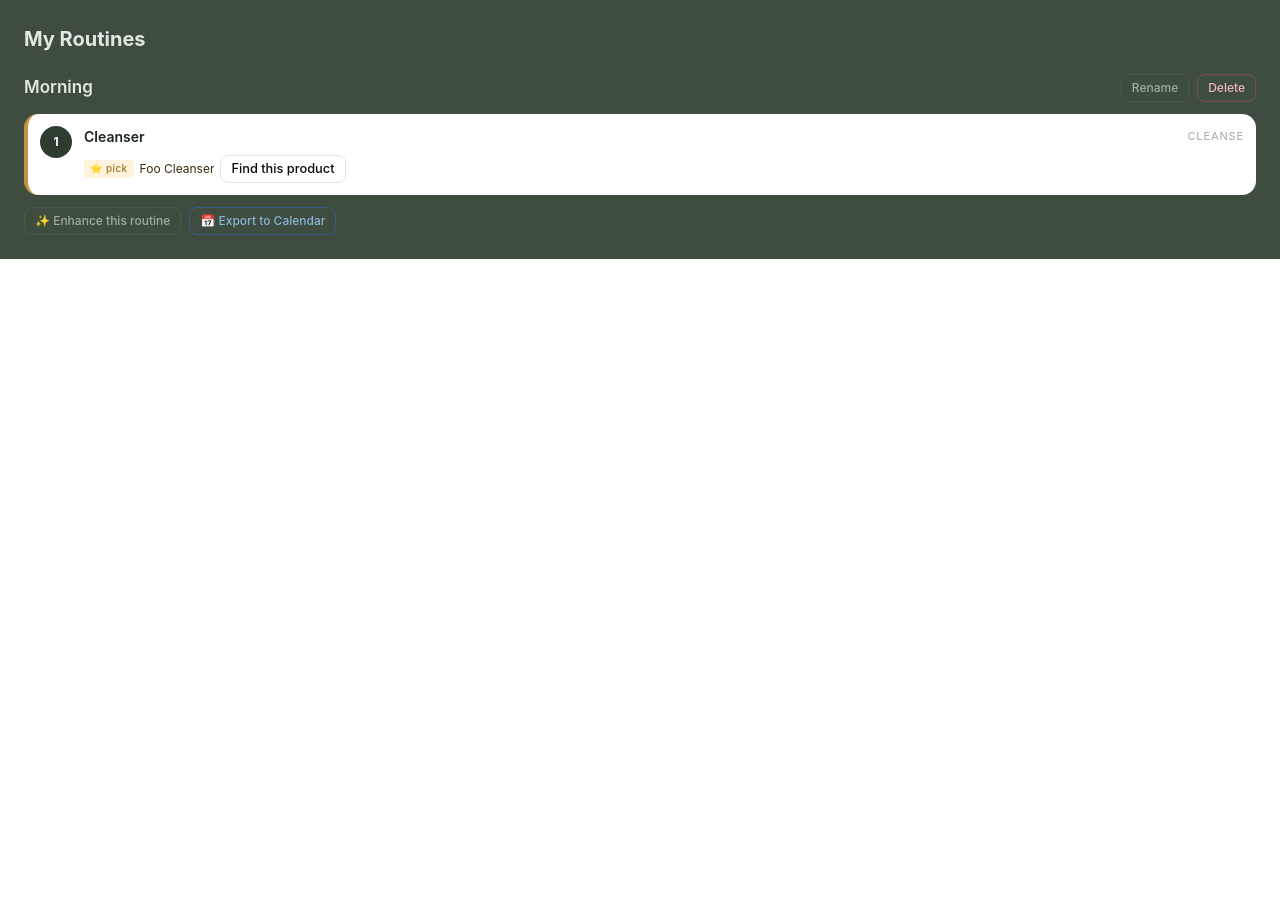
RoutinesPage rename collision handling (security-remediation Req 25.3, 25.4) › surfaces the 409 collision error from the backend instead of failing silently
Expected: the heading "Morning" is shown, [24,75,93,101]
Click the button "Rename": (1155,88) [1121,74,1189,102]
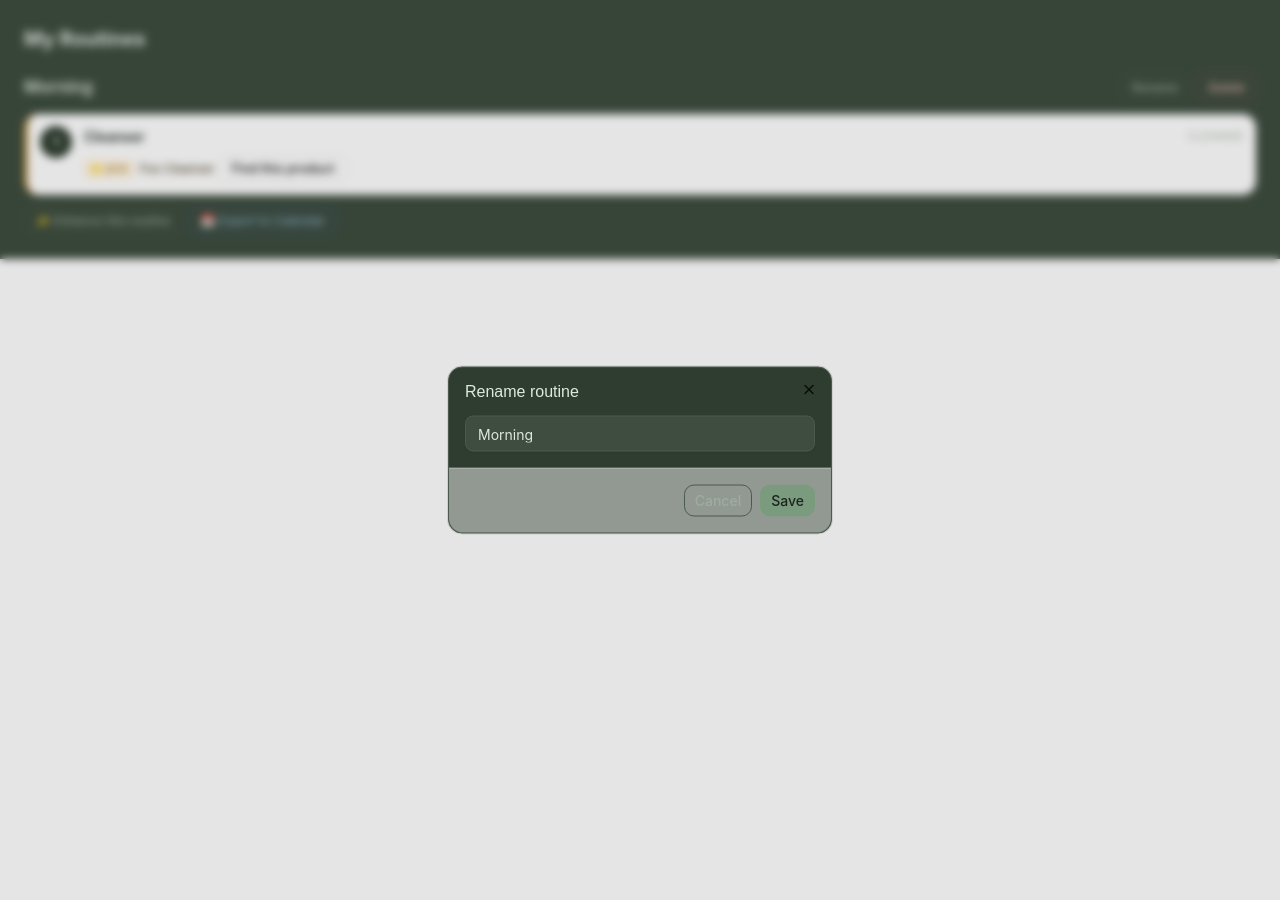
Replace the text in the field showing "Morning" with "evening": (640,434) [465,416,815,452]
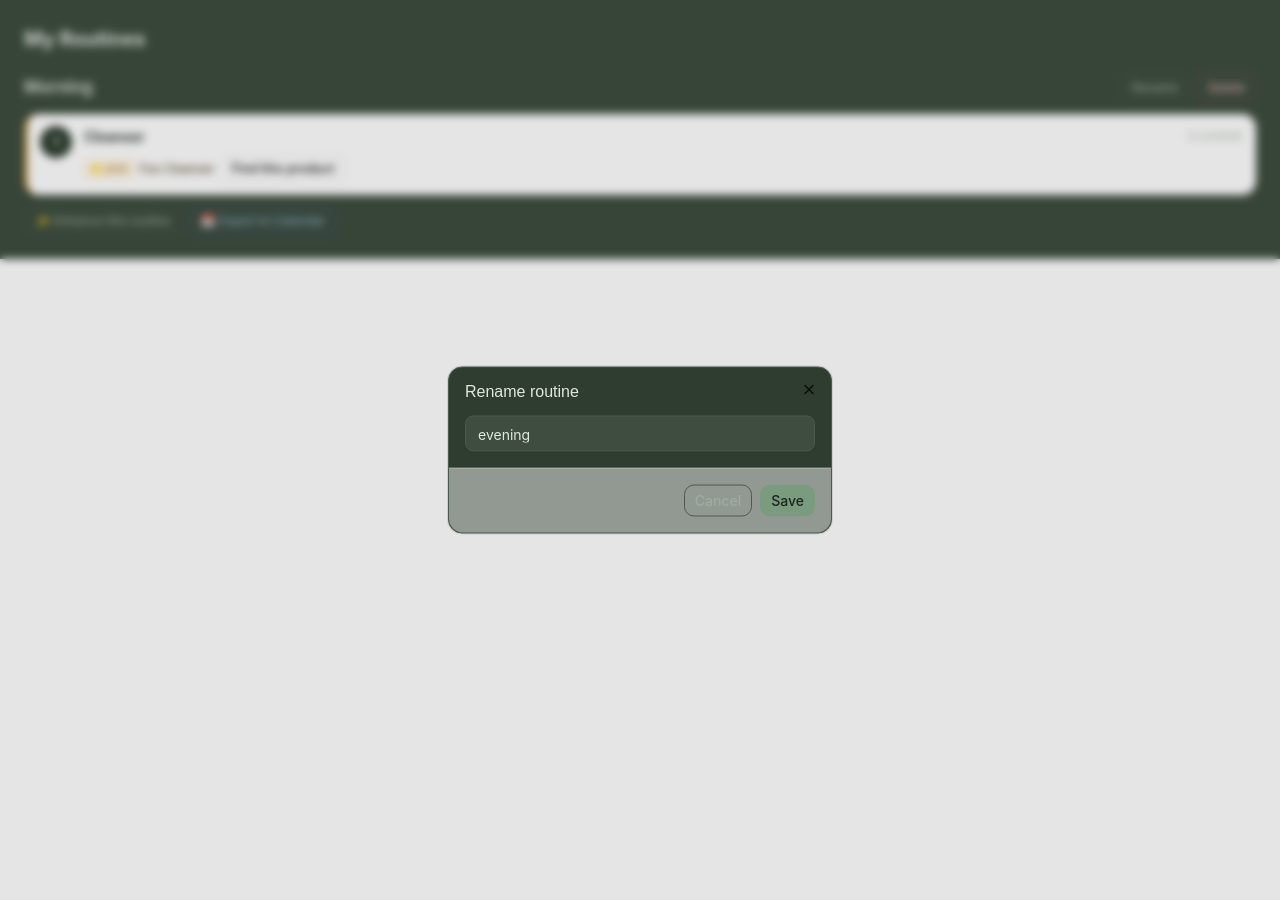
Click the button "Save": (788,500) [760,484,815,516]
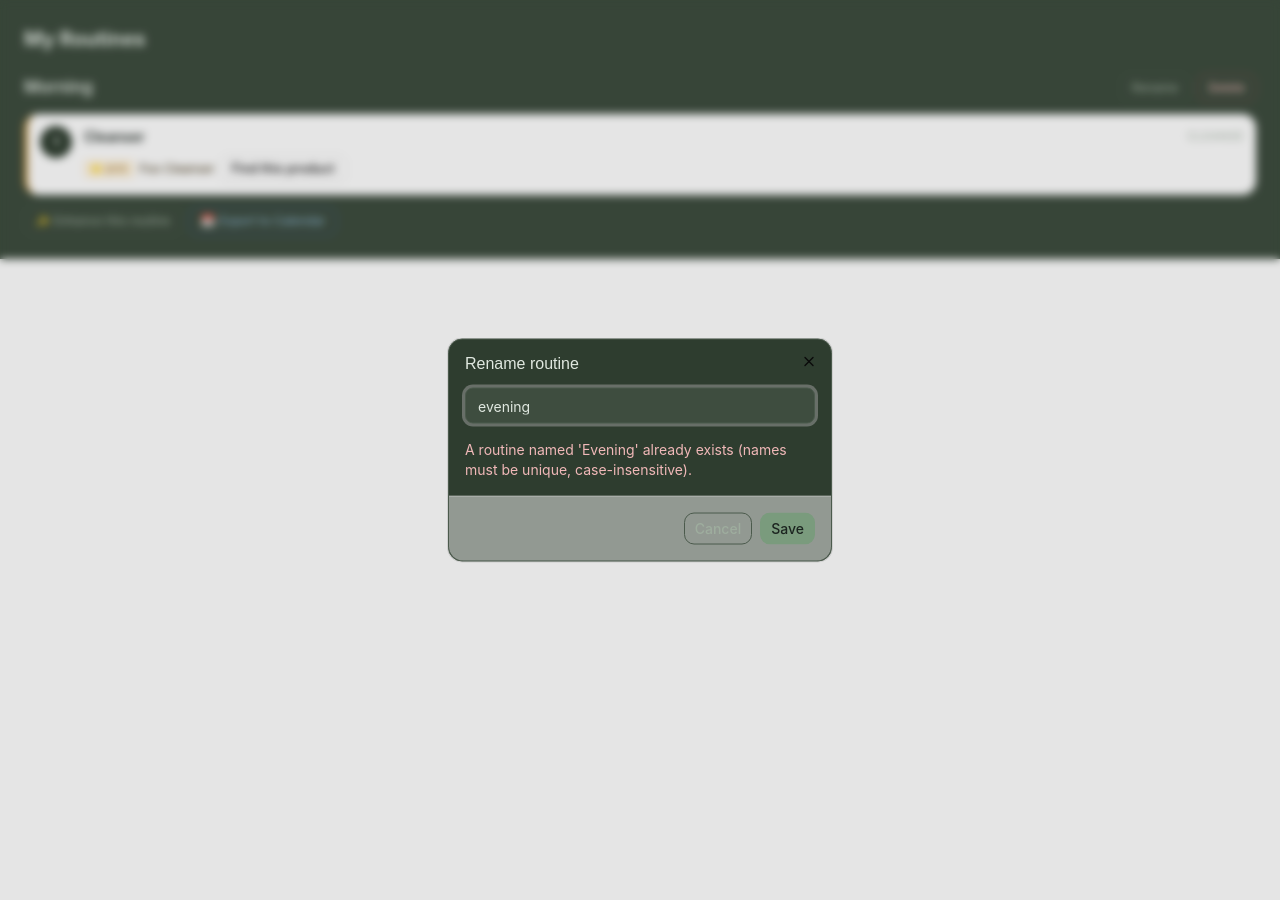
Result: the button "Save" is shown at [760,512,815,544]
Result: the text "A routine named 'Evening' already exists (names must be unique, case-insensitive)." is shown at [465,440,787,478]
